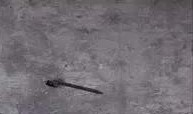Exposed reinforcement: (43, 77, 105, 95)
